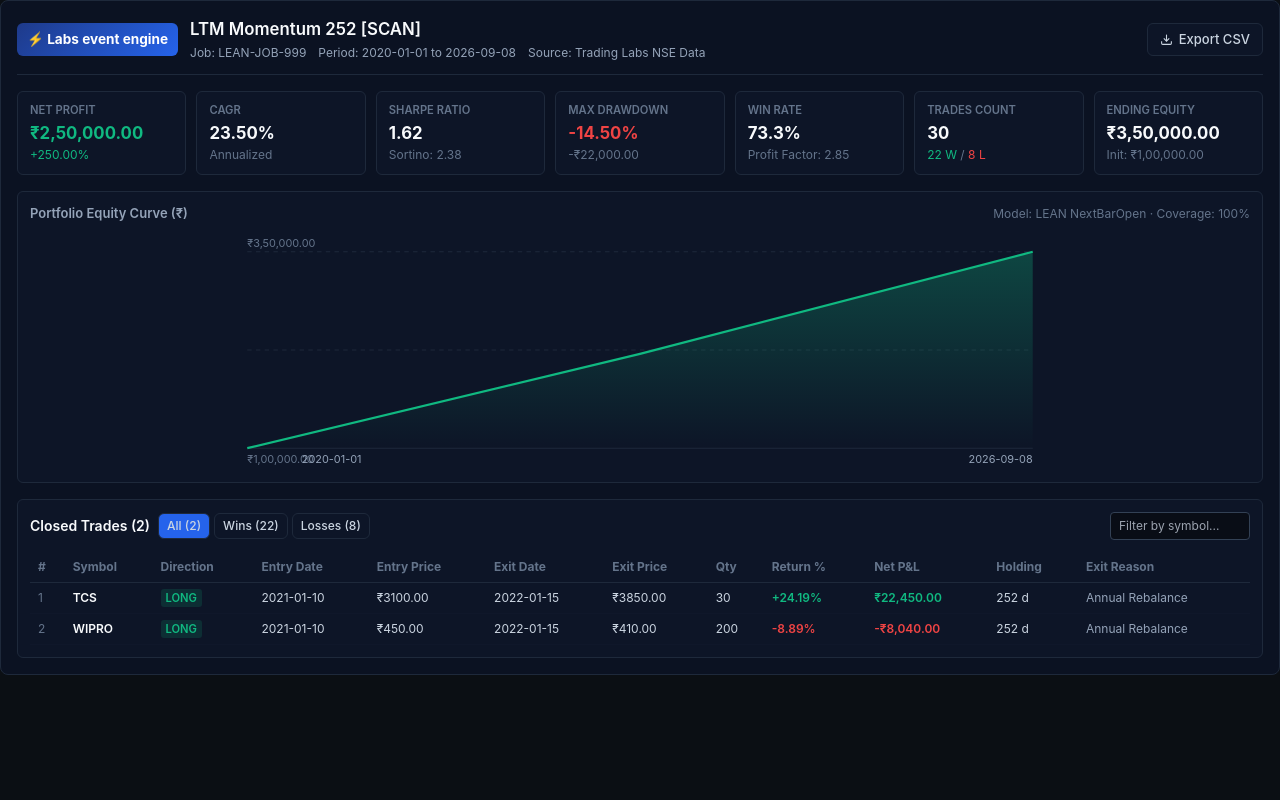
Test: IndicatorLeanBacktestView › filters trades by symbol search query
In the field with placeholder "Filter by symbol...": (1180, 526) 1110,512 -> 1250,540, type "TCS"
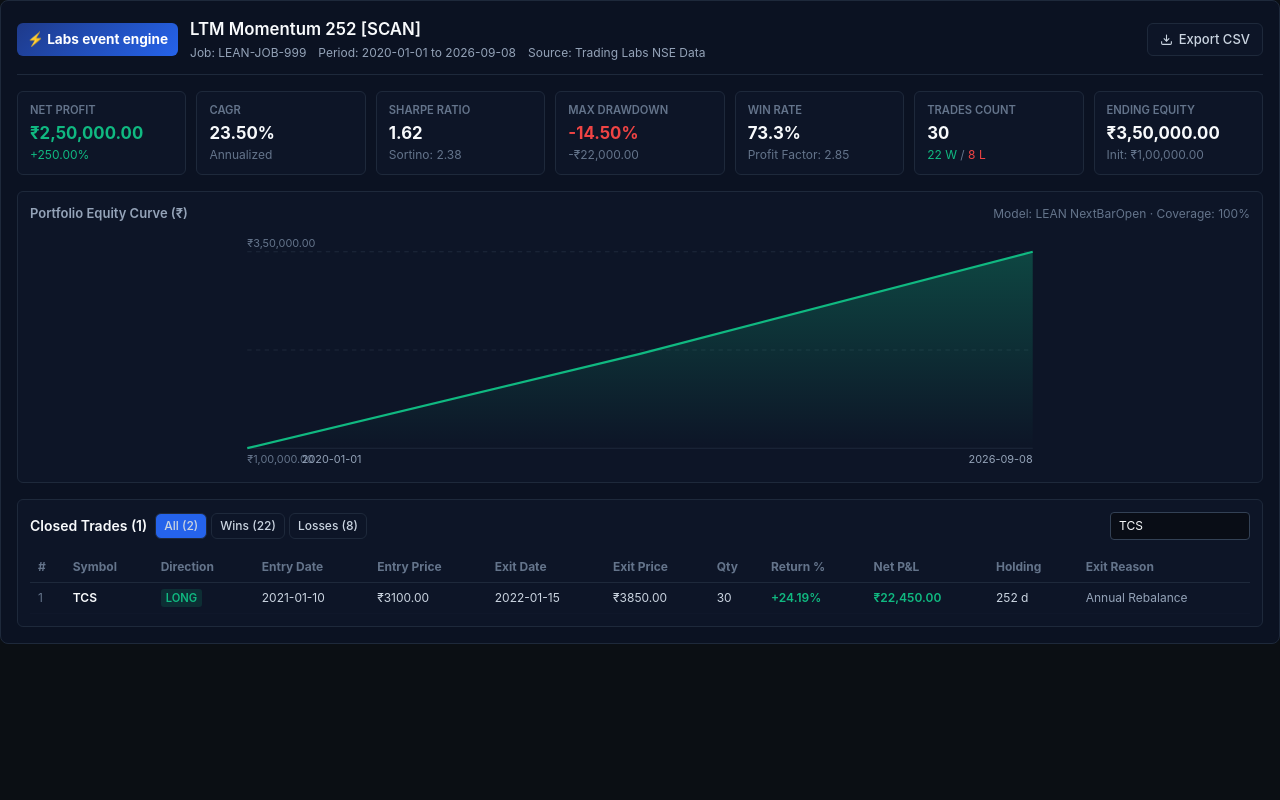
Expected: the text "TCS" is shown, 65,582 -> 153,613
Result: the text "WIPRO" is gone
